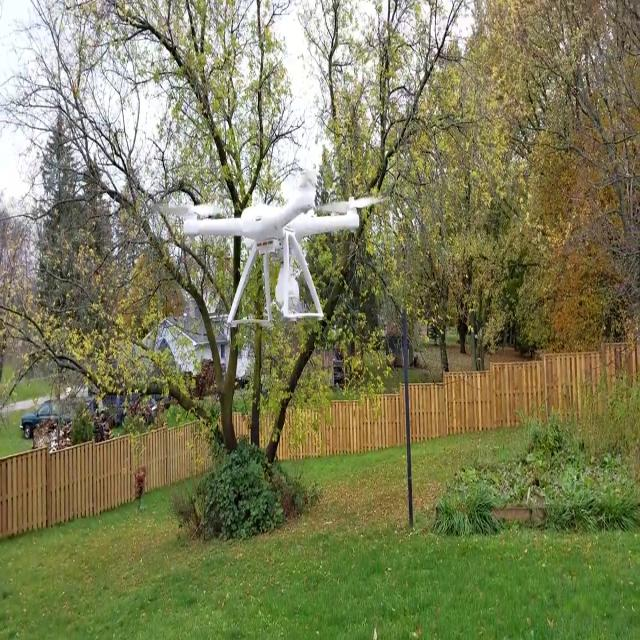drone: (171, 176, 389, 273)
